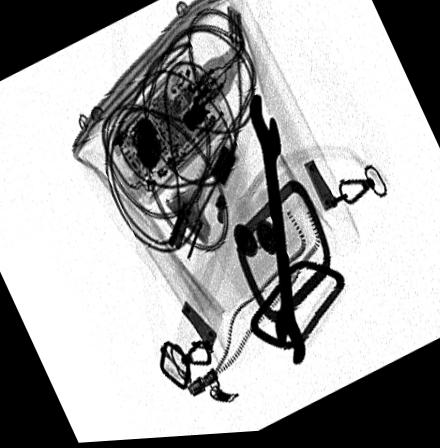Wrench: (248, 95, 306, 370)
